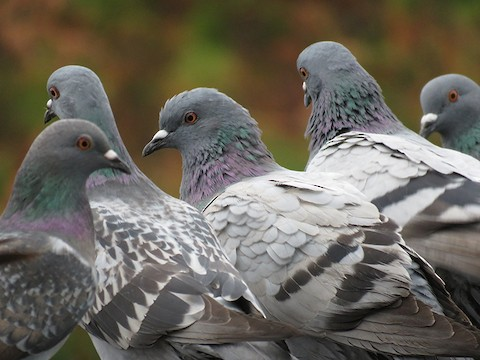pigeon: (133, 80, 478, 359), (34, 60, 295, 359), (282, 35, 480, 324), (2, 114, 134, 356), (408, 66, 480, 191)
